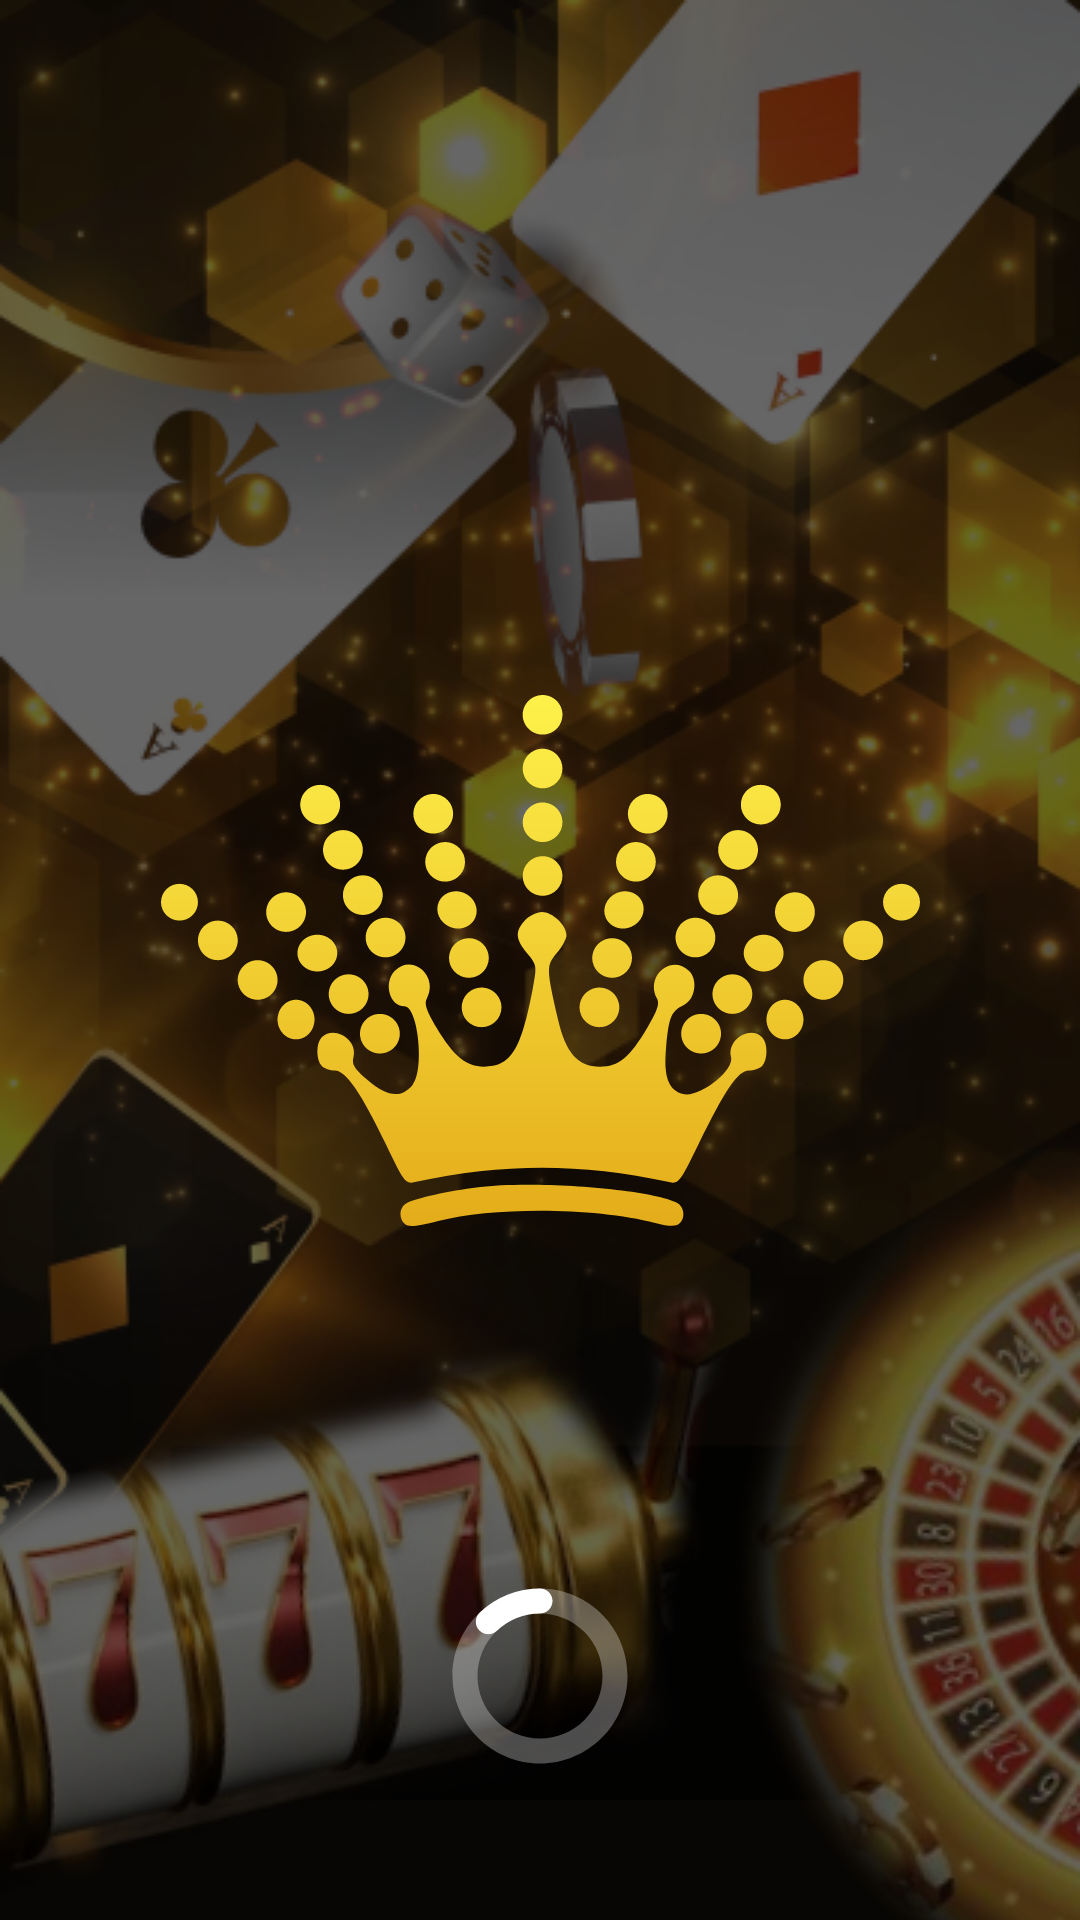

Named icons in this screenshot (1080×1920) and their centers, [x,y]:
loading: [540,1676]
